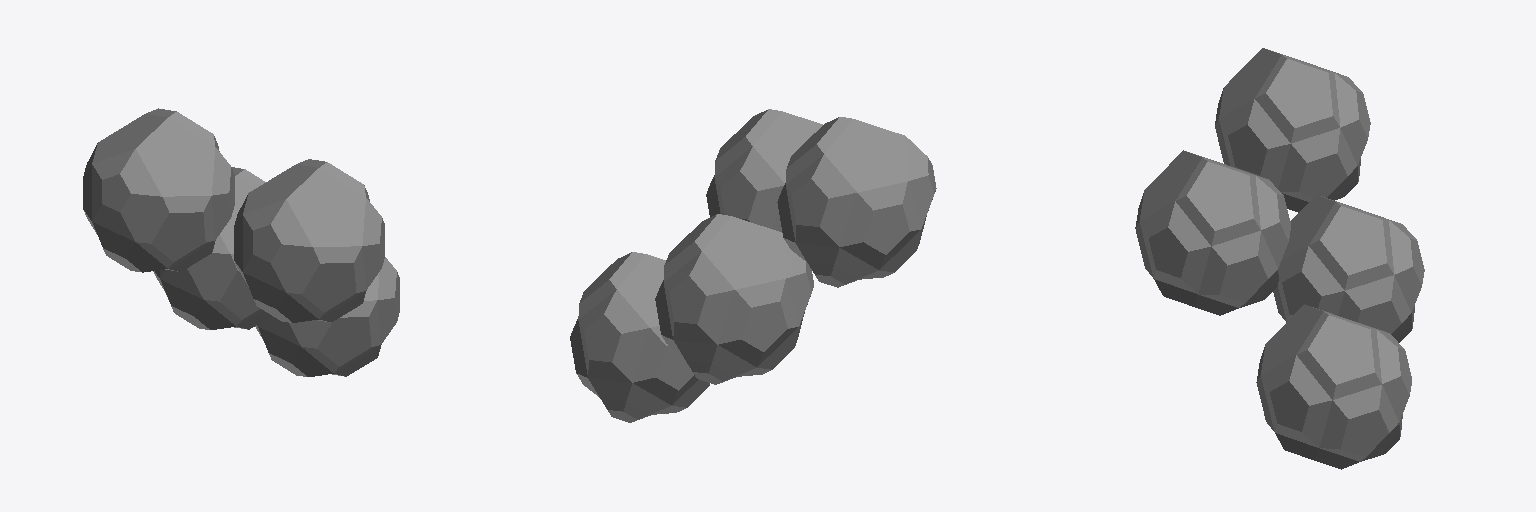
File: rocks3.obj
3 renders of one model, left to right at view 1: azimuth 30°, elevation 25°; view 2: azimuth 150°, elevation 25°; view 3: azimuth 270°, elevation 25°, orthographic.
Parts seen in each view (by area): view 1: rocks004, rocks007, rocks005, rocks006; view 2: rocks004, rocks006, rocks005, rocks007; view 3: rocks005, rocks007, rocks004, rocks006.
Part boxes in pixels (left/top/right/bottom): rocks004: left=83, top=108, right=234, bottom=272; rocks007: left=234, top=159, right=384, bottom=322; rocks005: left=255, top=257, right=399, bottom=376; rocks006: left=153, top=167, right=271, bottom=329; rocks004: left=777, top=117, right=936, bottom=287; rocks006: left=655, top=214, right=813, bottom=384; rocks005: left=570, top=252, right=709, bottom=422; rocks007: left=706, top=109, right=822, bottom=231; rocks005: left=1256, top=304, right=1411, bottom=469; rocks007: left=1135, top=150, right=1290, bottom=315; rocks004: left=1215, top=48, right=1370, bottom=212; rocks006: left=1273, top=195, right=1424, bottom=342.
Size of the model in its own units: 27.13 by 26 by 21.25.